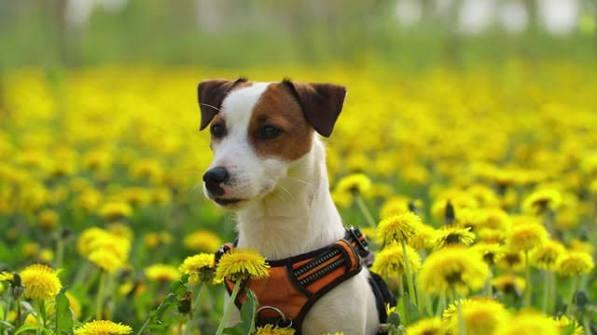adult_dog: (198, 75, 396, 333)
